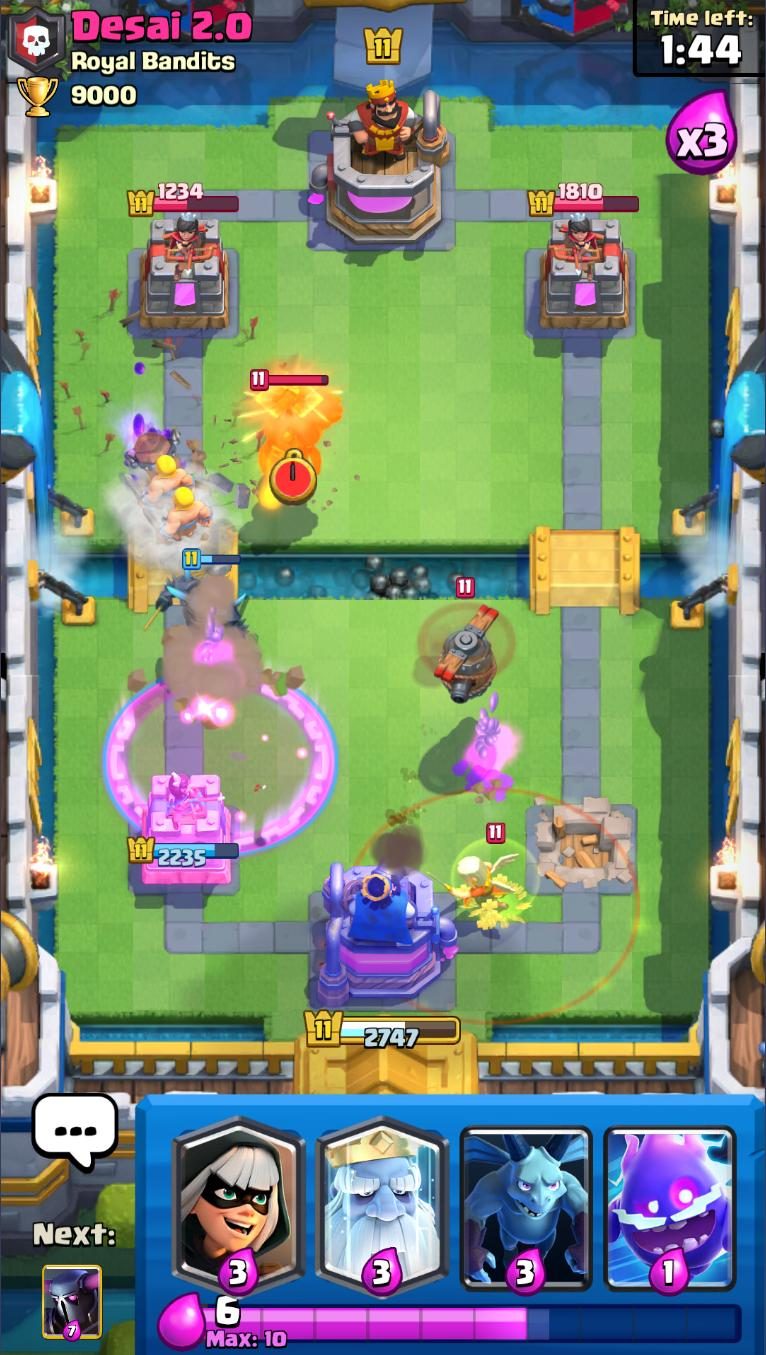BanditDeck: (166, 1096, 312, 1295)
ElectroSpiritDeck: (597, 1097, 742, 1298)
Elixir: (203, 1296, 744, 1351)
EnemyTower: (135, 216, 234, 331), (537, 216, 633, 333)
FlyingMachine: (419, 577, 514, 701)
Healer: (455, 822, 539, 920)
KingTower: (307, 78, 453, 247)
MinionsDeck: (455, 1097, 598, 1293)
MyBarbarian: (140, 488, 214, 542), (124, 454, 195, 503)
MyKingHP: (302, 1010, 462, 1053)
MyKingTower: (315, 859, 460, 1009)
MyPekka: (142, 549, 251, 654)
MyPrincessTower: (128, 772, 242, 890)
MyPrincessTowerBrocken: (526, 798, 641, 900)
MyPrincessTowerHP: (127, 836, 241, 869)
PekkaNext: (41, 1262, 105, 1343)
Rage: (104, 669, 339, 855)
RoyaleGhostDeck: (310, 1095, 451, 1290)
RuneGiant: (247, 369, 346, 500)
TowerPrincessHP: (528, 182, 640, 219), (128, 182, 241, 218)
